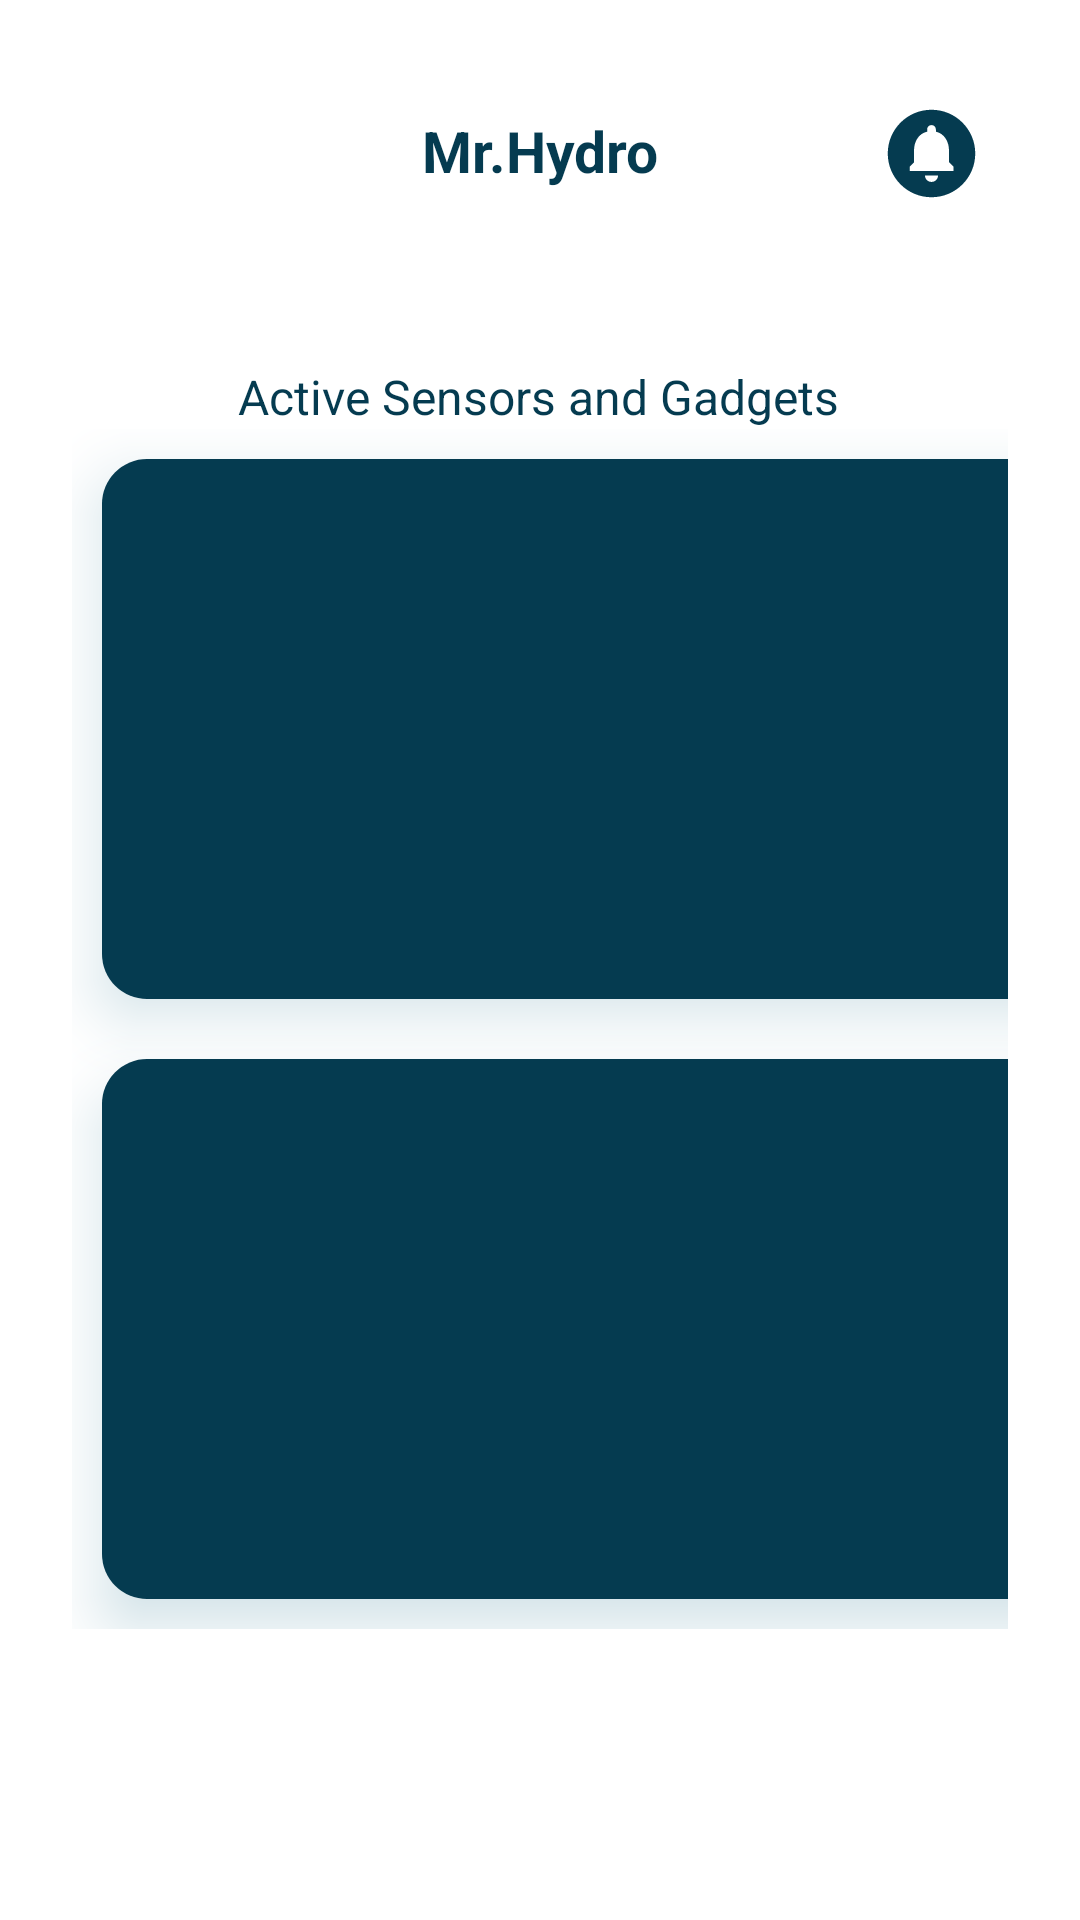

Named icons in this screenshot (1080x1920) and their centers, point (x, y):
circle notifications: point (931, 153)
